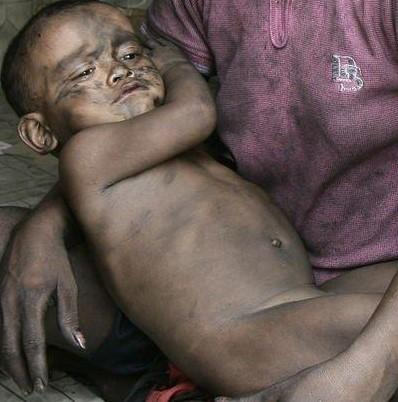Stunting: (19, 5, 210, 173)
